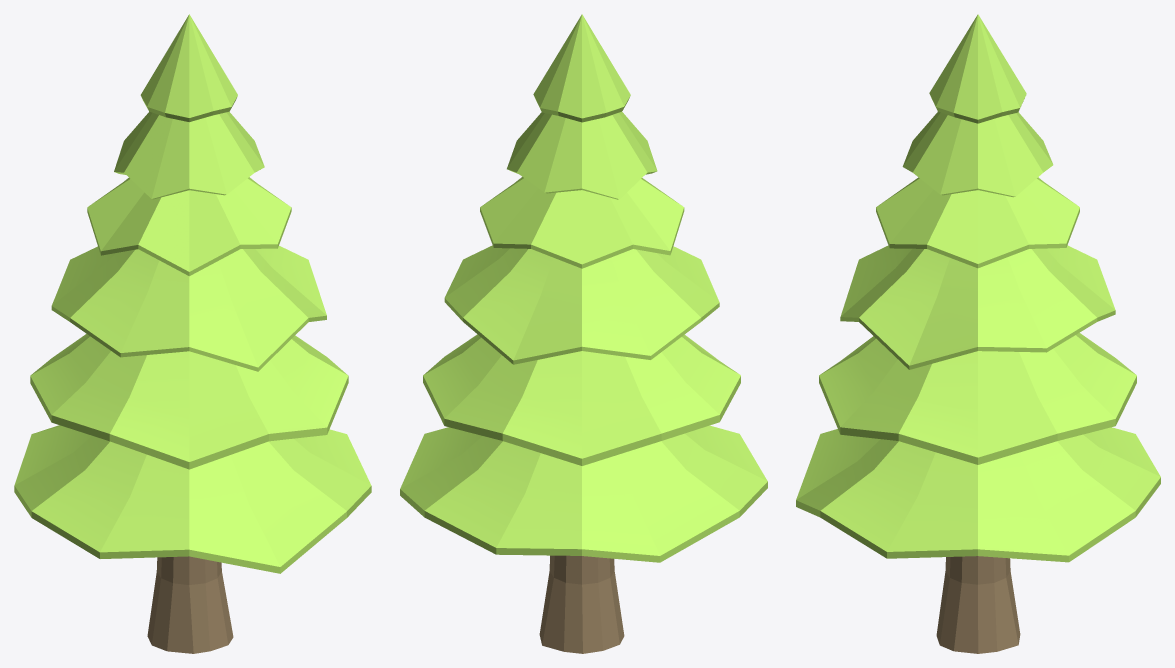
The model's file is more tree5.fbx.
3 renders of one model, left to right at view 1: azimuth 30°, elevation 25°; view 2: azimuth 150°, elevation 25°; view 3: azimuth 270°, elevation 25°, orthographic.
Visible parts, largest first — view 1: tree_007_light_green; view 2: tree_007_light_green; view 3: tree_007_light_green.
Part boxes in pixels (bbox=[...]): tree_007_light_green: bbox=[14, 14, 371, 653]; tree_007_light_green: bbox=[400, 14, 767, 653]; tree_007_light_green: bbox=[796, 14, 1160, 653].
Bounding box in the file's own units: 2.68 × 5.06 × 2.69.
